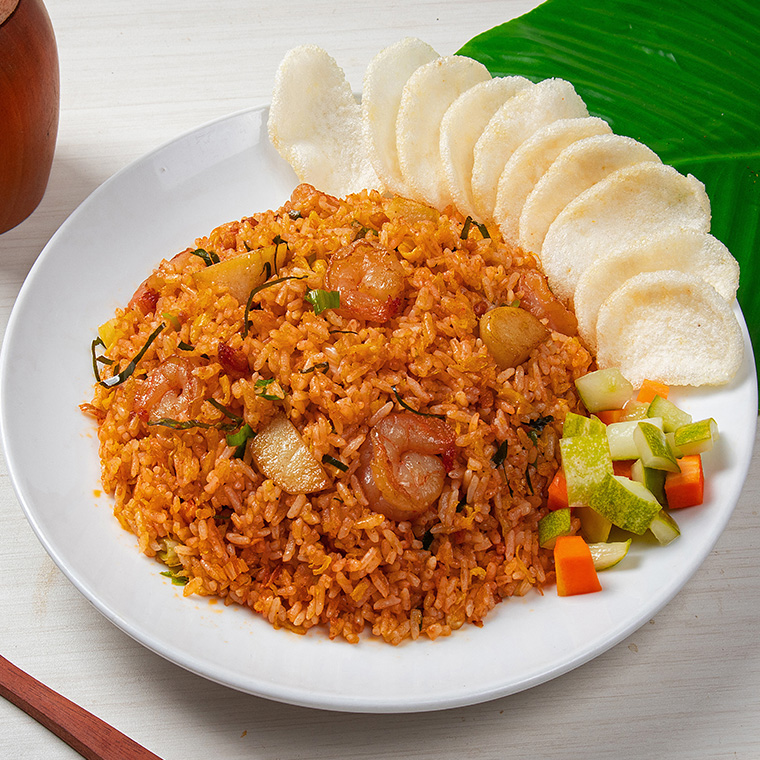Nasi goreng: (93, 197, 594, 655)
